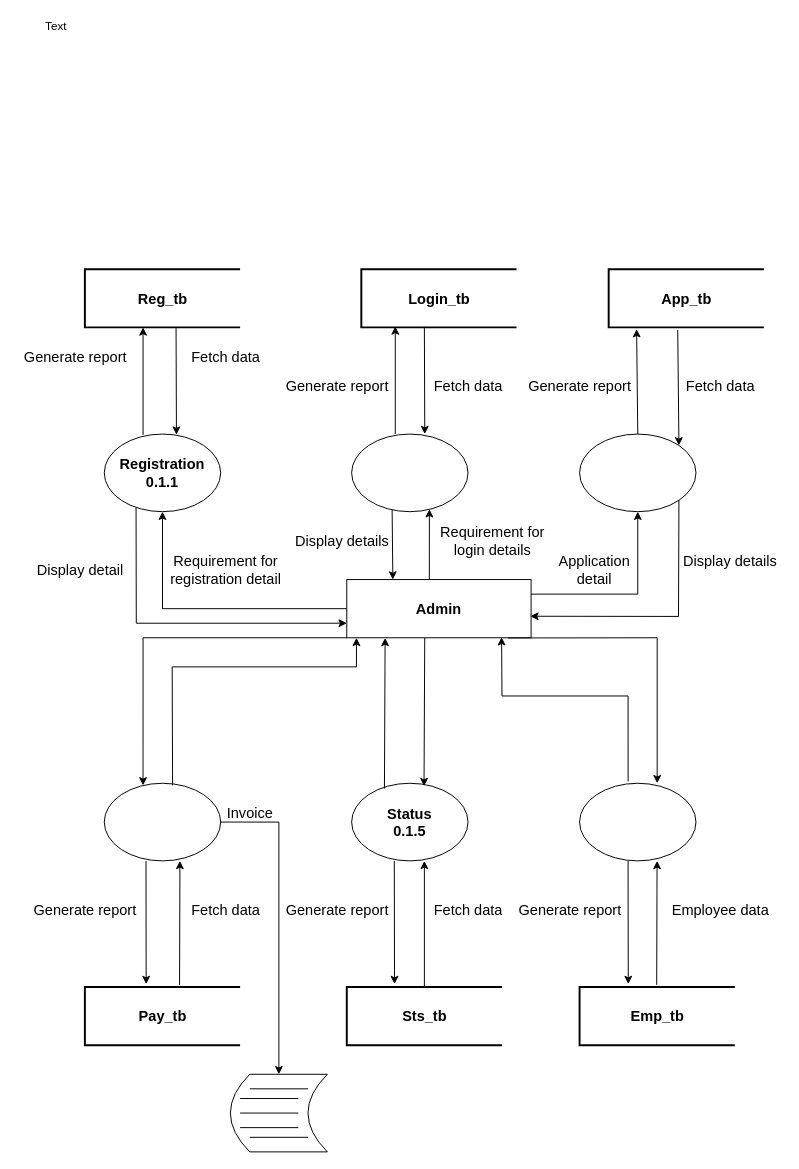
The diagram is 799 pixels wide and 1169 high, and some of its shapes have lost their labels. Here are the shapes that lost their labels. From the top down, the box of each, then its label:
(351, 433, 468, 512): Login 0.1.2
(579, 433, 696, 512): Application 0.1.3
(103, 782, 221, 861): Payment 0.1.4
(579, 782, 696, 861): Employee 0.1.6
